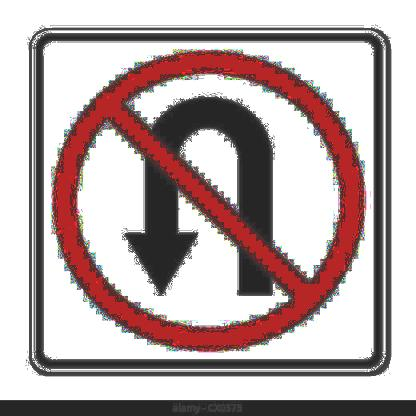No U-turn: (31, 39, 380, 369)
